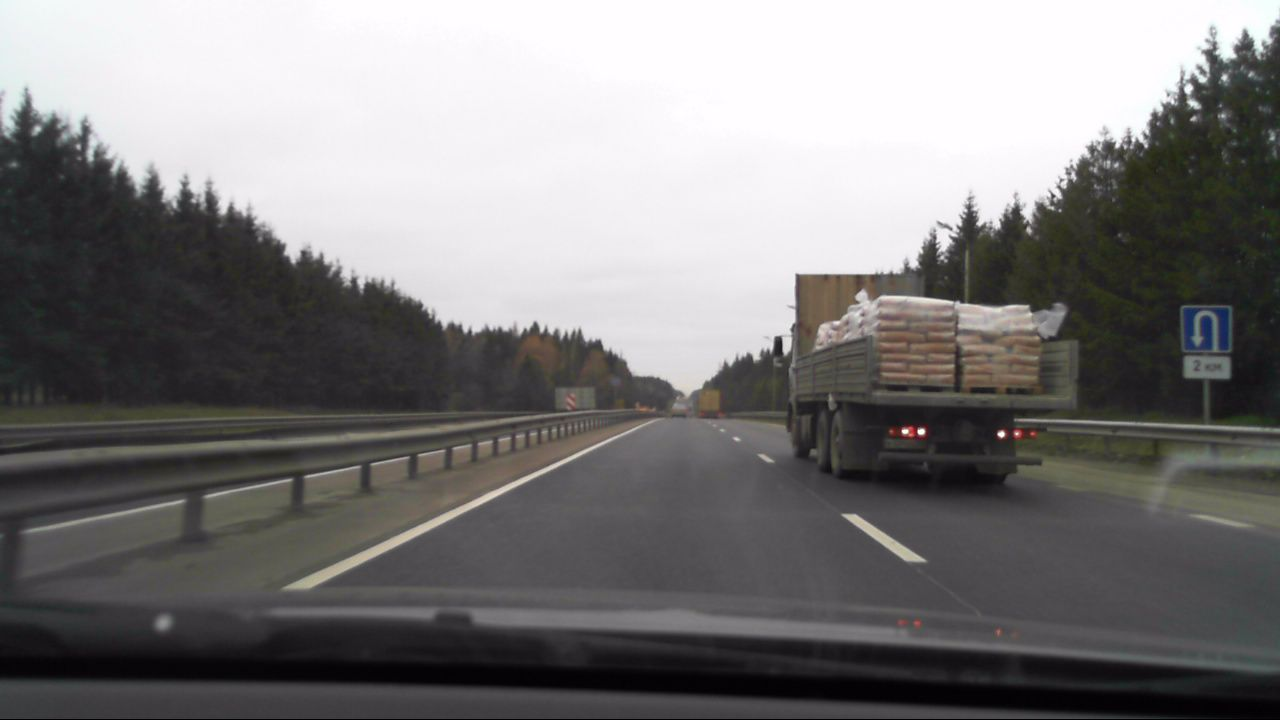U-turn: (1182, 307, 1230, 352)
